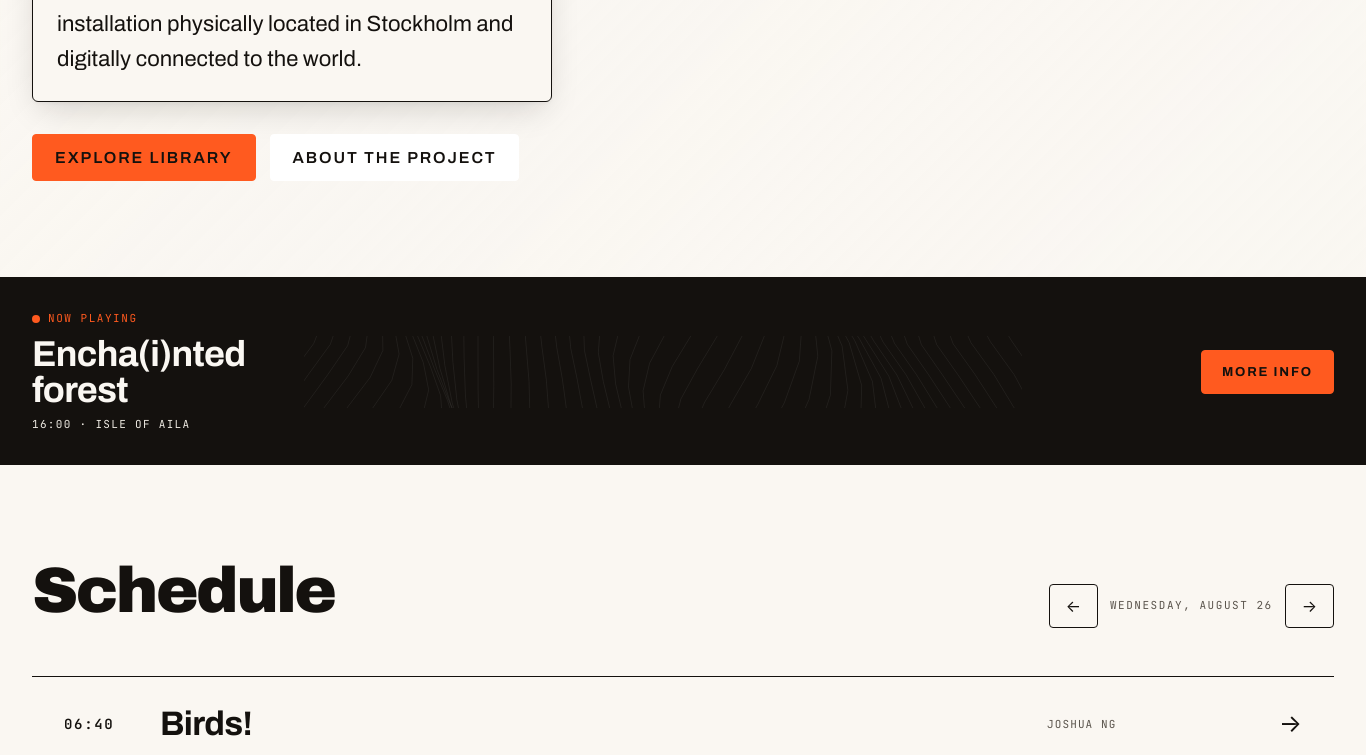
Scenario: Home › Schedule Item Expansion › displays track details when expanded
The image size is (1366, 755).
(page scrolled)
Click the button "More Info" at (1267, 372), box [1201, 350, 1334, 394]
(page scrolled)
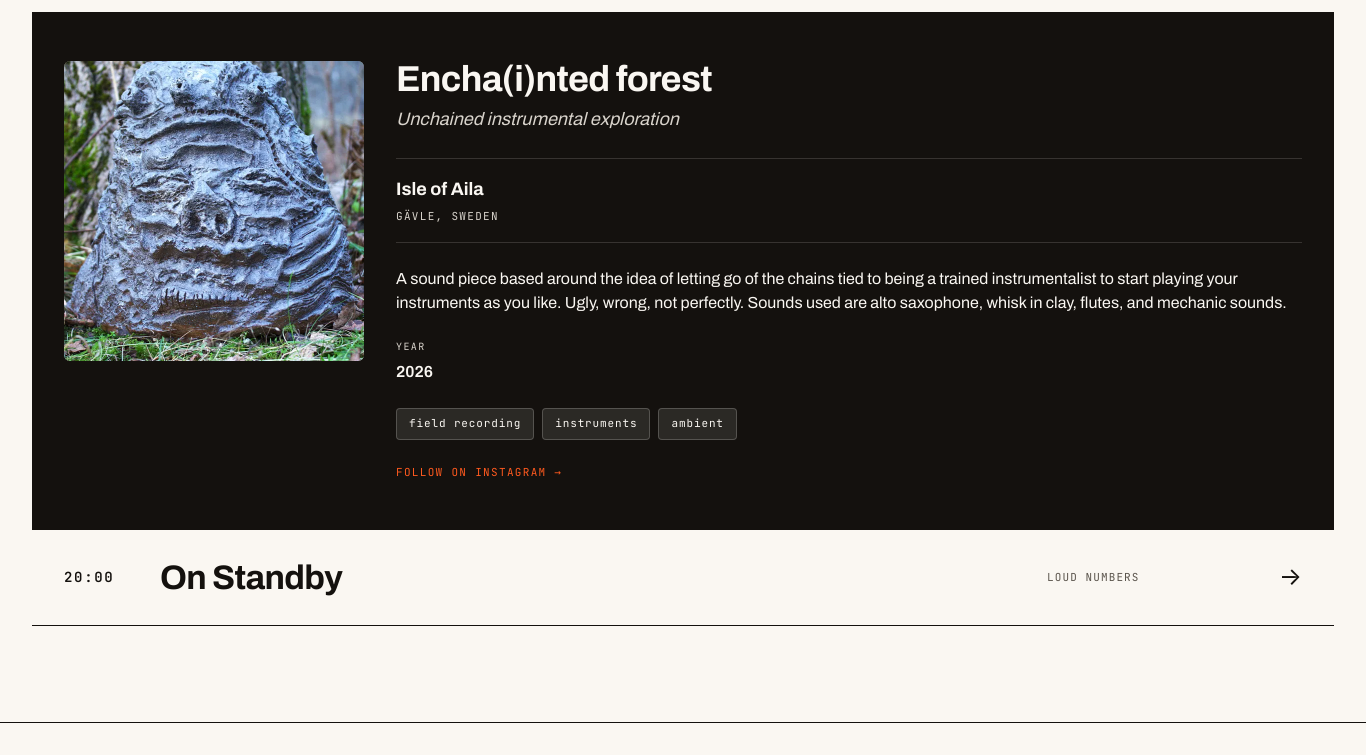
Check: the text "Unchained instrumental exploration" is shown, box [396, 110, 679, 130]
Check: the text "Gävle, Sweden" is shown, box [396, 209, 499, 223]
Check: the text "Year" is shown, box [396, 340, 426, 353]
